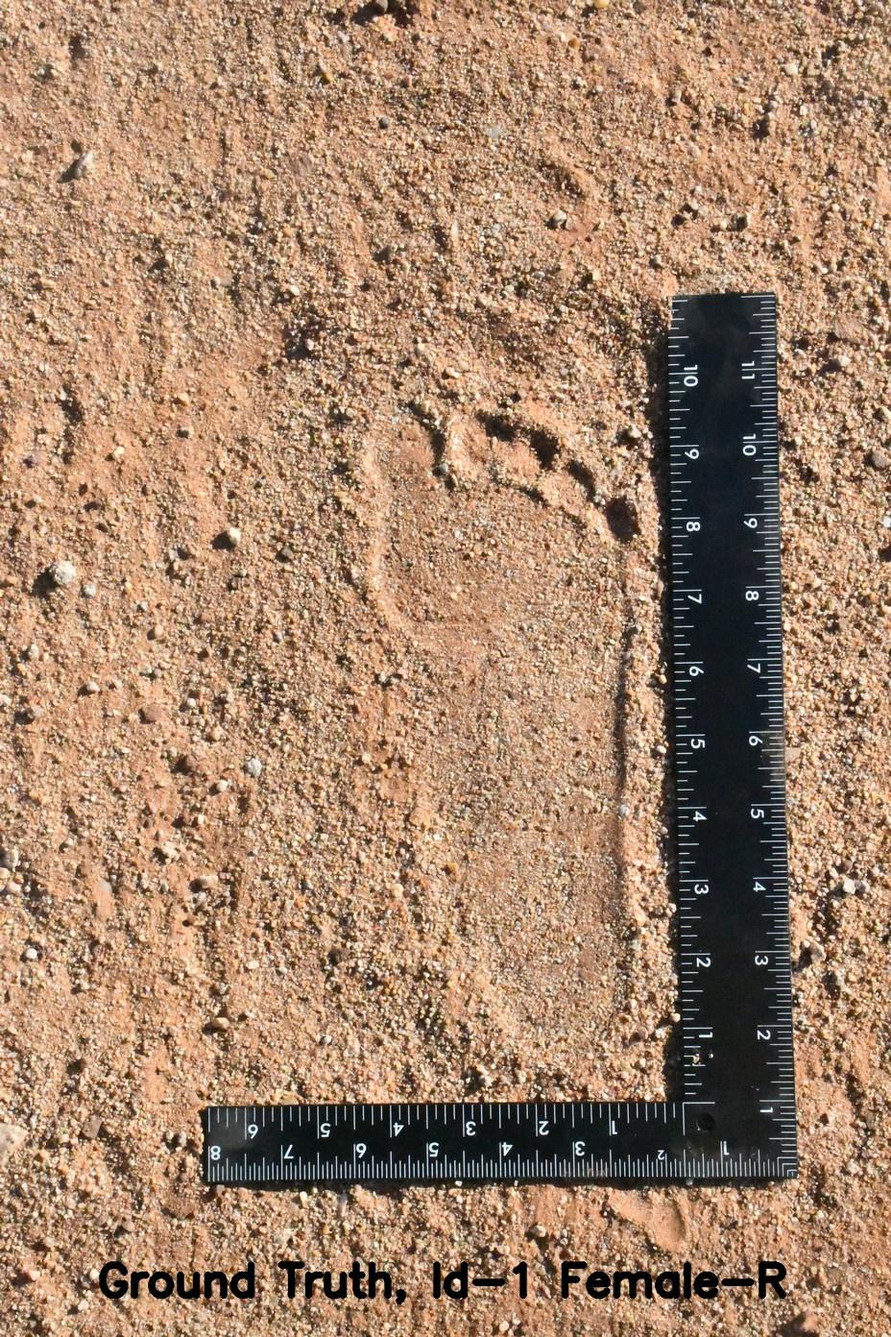human_foot_print: (308, 343, 679, 1098)
